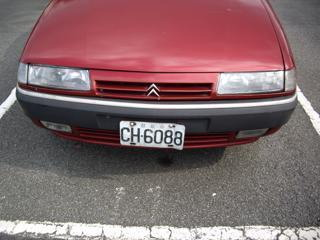plate: (119, 118, 188, 152)
